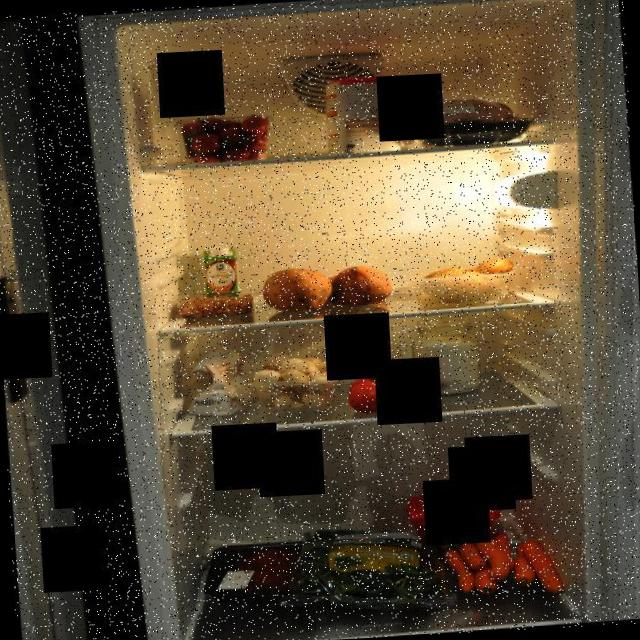Carne pollo: (399, 92, 535, 151)
Carne vacuno: (198, 538, 328, 610)
Champiñones: (248, 348, 340, 415)
Gambas/Langostinos: (172, 292, 257, 322)
Mantequilla: (402, 488, 506, 552)
Patata: (412, 255, 520, 307)
Tomate: (340, 353, 444, 416)
Zanahoria: (437, 526, 567, 603)
flour: (174, 344, 258, 428)
heavy_cream: (202, 243, 241, 311)
spinach: (273, 518, 455, 618)
strawberries: (170, 110, 282, 168)
sugar: (410, 308, 485, 398), (324, 73, 403, 156)
sweet_potato: (258, 259, 396, 316)
